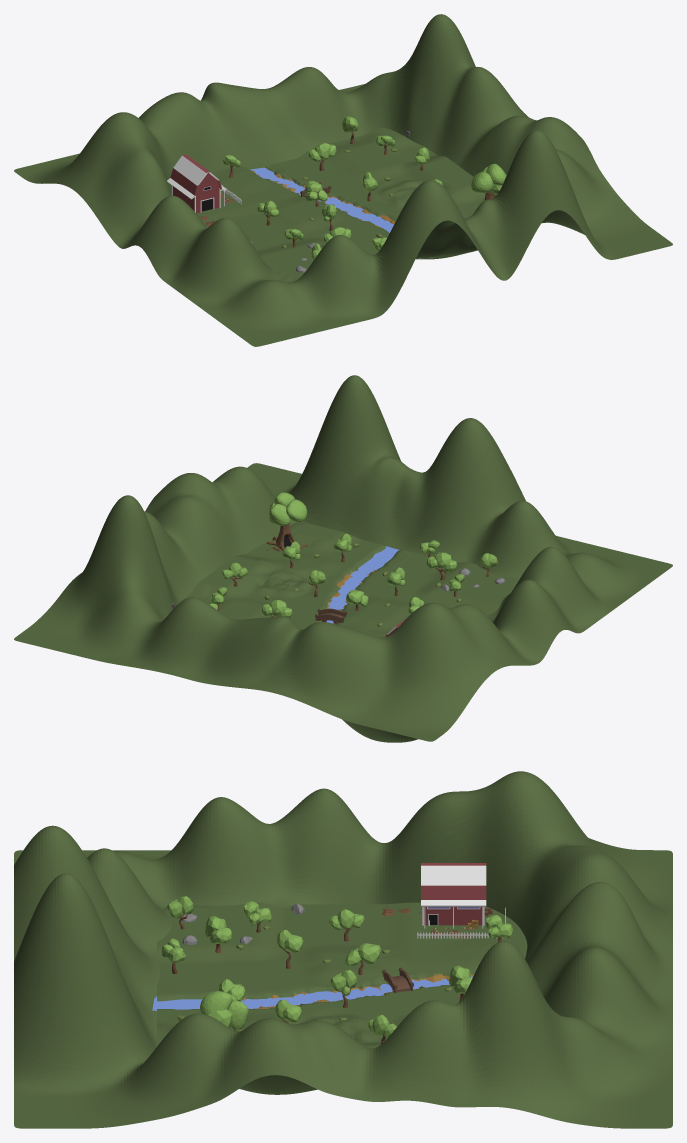
The model's file is forest_map.fbx.
3 views of the same model, one above another, from view 1: azimuth 30°, elevation 25°; view 2: azimuth 150°, elevation 25°; view 3: azimuth 270°, elevation 25° (orthographic). The views are drawn at different scales.
Visible parts, largest first — view 1: dag, zemin, Plane.010, Plane.012, Plane.011, Vert.008; view 2: dag, zemin, Vert.008, Plane.010; view 3: dag, zemin, Plane.012, Plane.010, Vert.008, Plane.011.
Boxes of the visible parts, box(x1,y1,x2,y2) form: dag: box(14, 14, 672, 346); zemin: box(171, 127, 485, 282); Plane.010: box(250, 167, 421, 258); Plane.012: box(167, 154, 226, 199); Plane.011: box(173, 173, 219, 213); Vert.008: box(471, 163, 506, 200); dag: box(14, 375, 672, 742); zemin: box(177, 522, 519, 637); Vert.008: box(265, 492, 308, 551); Plane.010: box(321, 546, 399, 623); dag: box(14, 771, 672, 1128); zemin: box(157, 902, 527, 1048); Plane.012: box(421, 863, 486, 906); Plane.010: box(152, 974, 473, 1010); Vert.008: box(200, 991, 248, 1029); Plane.011: box(424, 907, 482, 925).
Size of the model in its own units: 6404 by 3367 by 6404.
